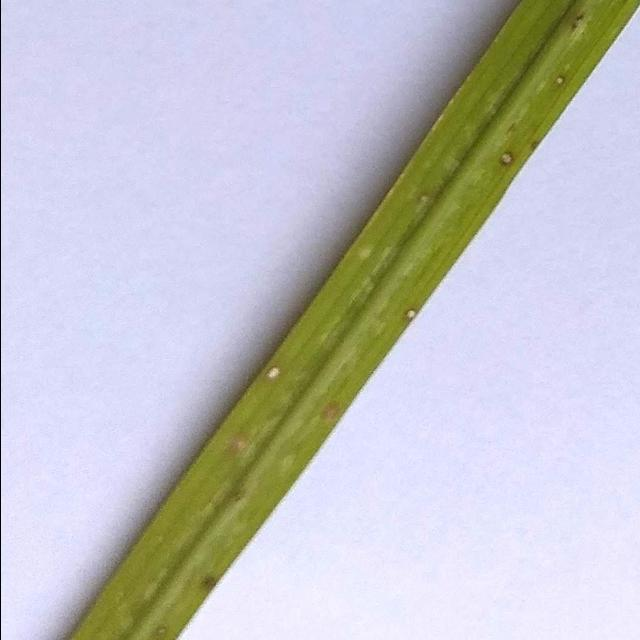Leaf blast: (59, 0, 640, 639)
